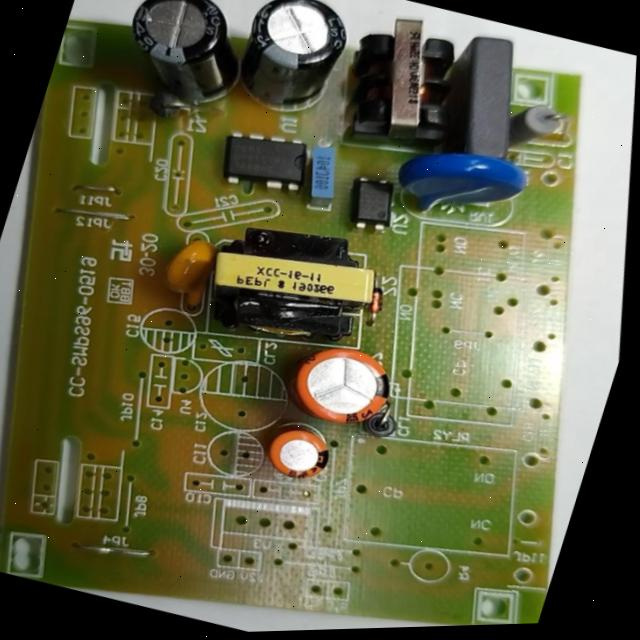Cap1: (269, 323, 416, 448)
Cap2: (252, 411, 350, 496)
Cap3: (208, 0, 381, 136)
Cap4: (97, 0, 264, 127)
MOSFET: (202, 111, 328, 212)
Mov: (377, 120, 547, 248)
Resistor: (492, 85, 582, 165)
Transformer: (177, 190, 406, 375), (309, 0, 491, 175)
